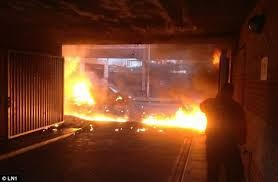fire: (141, 102, 208, 130), (65, 56, 96, 106)
